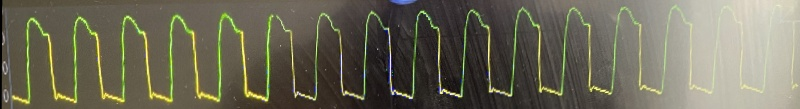normal_pressure: (0, 0, 787, 109)
